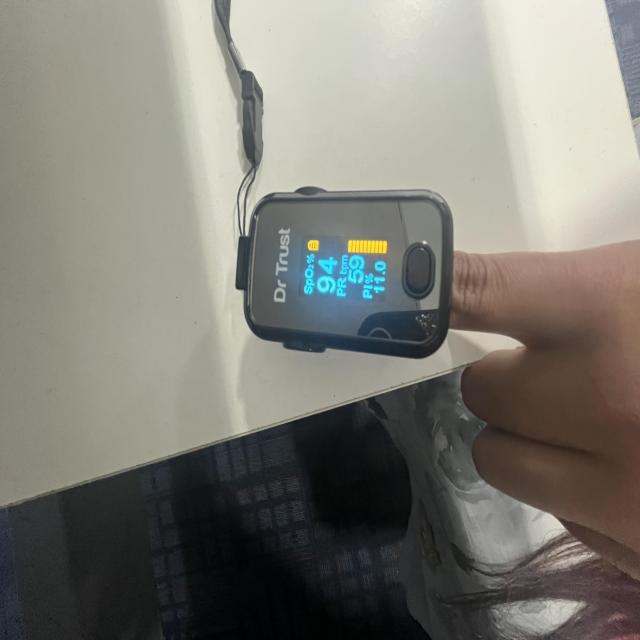spo2: (242, 189, 456, 360)
